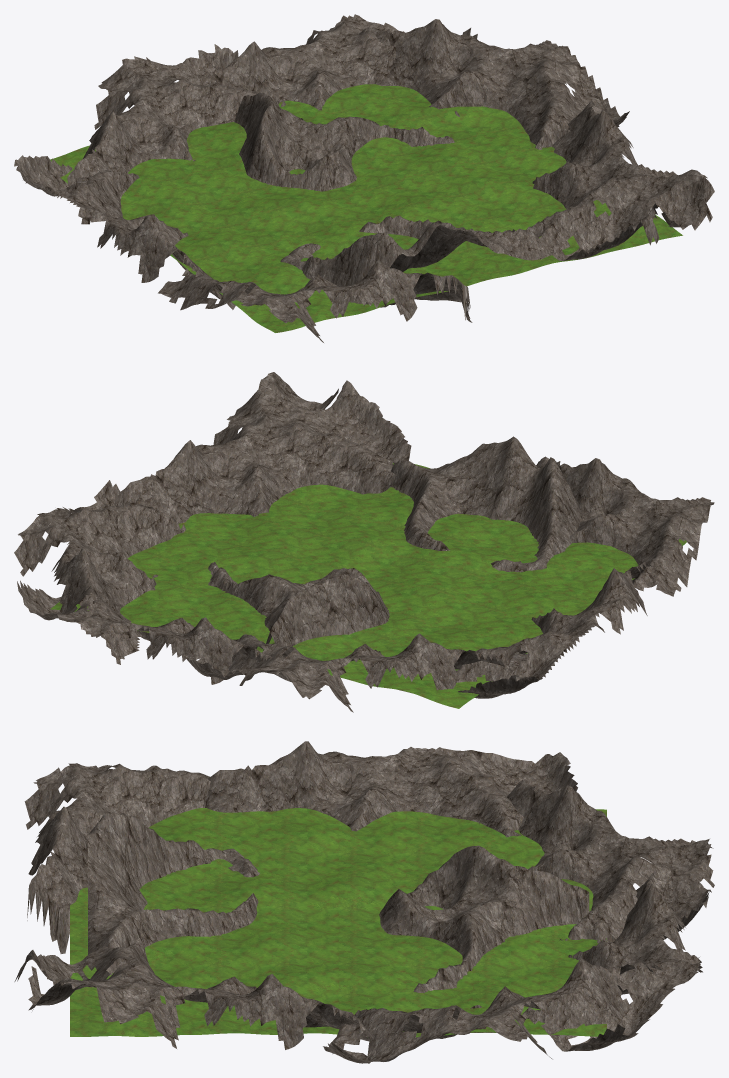
The model's file is terrain.dae.
3 renders of one model, top to bottom at view 1: azimuth 30°, elevation 25°; view 2: azimuth 150°, elevation 25°; view 3: azimuth 270°, elevation 25°, orthographic. The views are drawn at different scales.
Parts seen in each view (by area): view 1: Ebene, Landschaft, Landschaft.4, Landschaft.5, Landschaft.2, Landschaft.3, Landschaft.6, Landschaft.1; view 2: Ebene, Landschaft.5, Landschaft, Landschaft.4, Landschaft.6, Landschaft.2, Landschaft.1, Landschaft.3; view 3: Ebene, Landschaft, Landschaft.1, Landschaft.2, Landschaft.6, Landschaft.5, Landschaft.4, Landschaft.3.
Part boxes in pixels (x1,y1,x2,y2): Ebene: [50, 84, 682, 332]; Landschaft: [124, 92, 551, 304]; Landschaft.4: [359, 19, 629, 149]; Landschaft.5: [512, 100, 714, 261]; Landschaft.2: [67, 44, 286, 222]; Landschaft.3: [186, 14, 480, 110]; Landschaft.6: [158, 260, 472, 342]; Landschaft.1: [14, 155, 235, 309]; Ebene: [50, 463, 686, 708]; Landschaft.5: [114, 372, 411, 523]; Landschaft: [74, 436, 583, 692]; Landschaft.4: [14, 480, 186, 656]; Landschaft.6: [536, 456, 714, 596]; Landschaft.2: [183, 633, 512, 712]; Landschaft.1: [453, 561, 653, 698]; Landschaft.3: [17, 580, 291, 684]; Ebene: [70, 808, 606, 1037]; Landschaft: [88, 811, 589, 1032]; Landschaft.1: [205, 741, 577, 837]; Landschaft.2: [507, 780, 714, 943]; Landschaft.6: [24, 763, 210, 953]; Landschaft.5: [14, 938, 374, 1049]; Landschaft.4: [323, 958, 666, 1063]; Landschaft.3: [522, 872, 702, 1051].
Bounding box in the file's own units: 835 × 144 × 839.
Materials: 2 (2 with a texture image).
